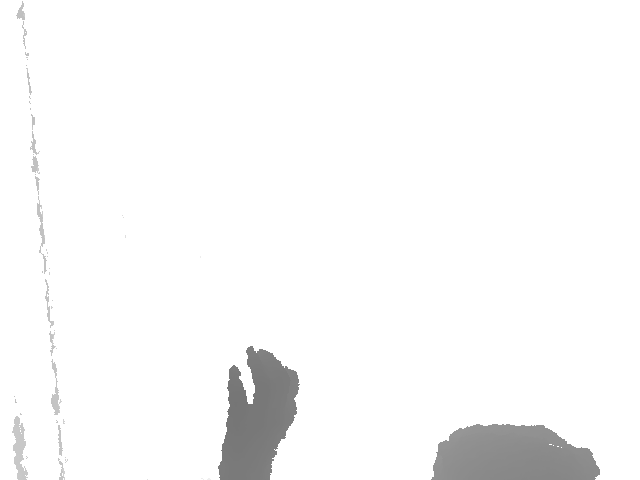hand: (226, 346, 300, 460)
head: (430, 423, 601, 480)
person: (217, 346, 602, 480)
